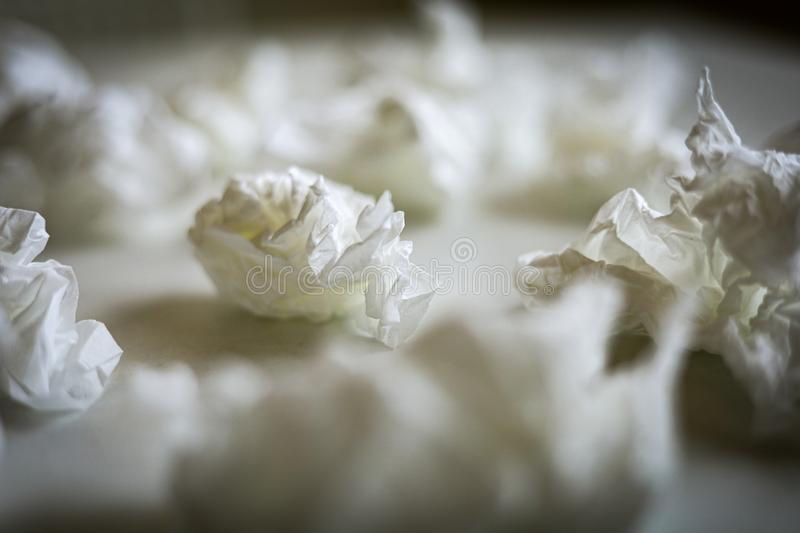Tissue: (512, 64, 800, 422), (186, 164, 442, 353)
